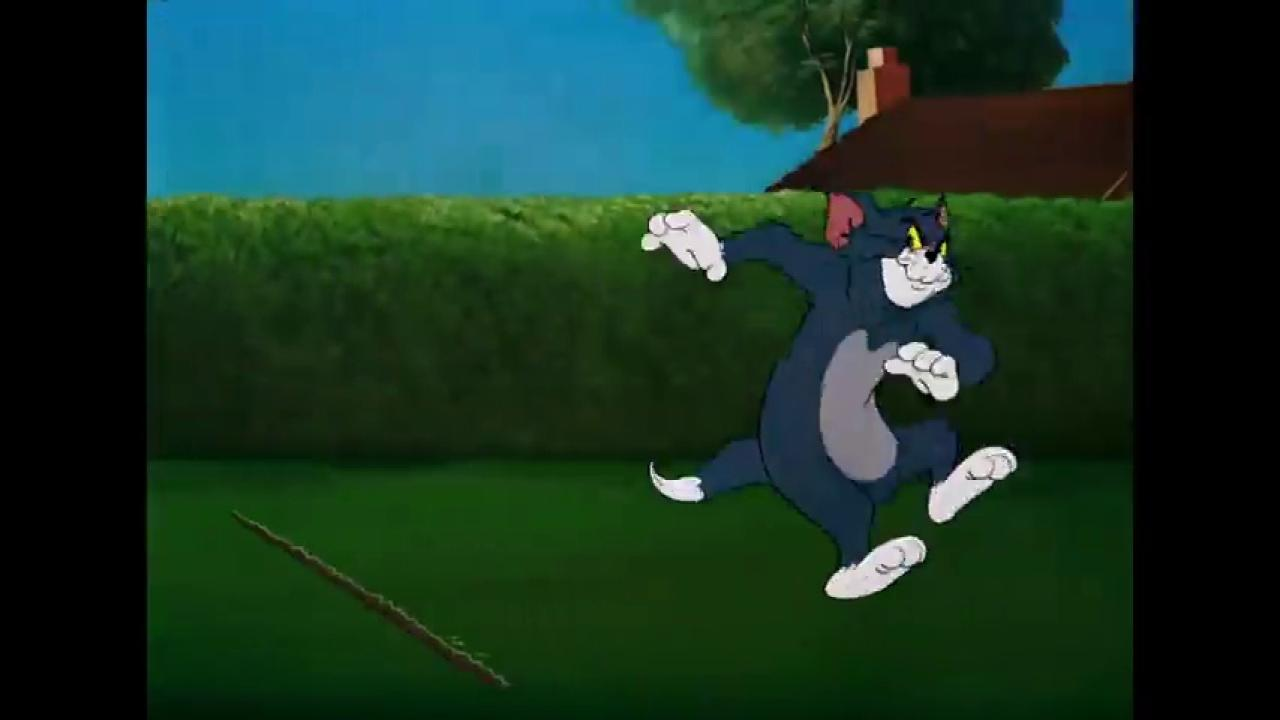Tom: (635, 179, 1021, 601)
